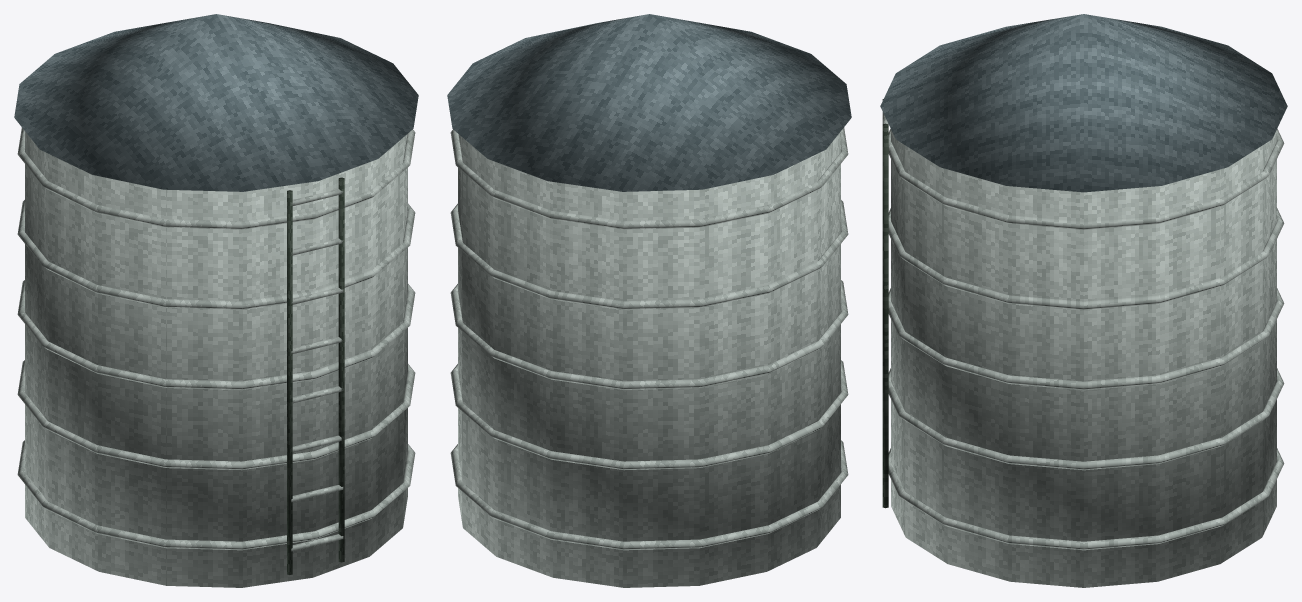
The model's file is grain_bin.glb.
The picture shows the model from 3 angles, left to right: view 1: azimuth 30°, elevation 25°; view 2: azimuth 150°, elevation 25°; view 3: azimuth 270°, elevation 25°; orthographic projection.
Visible parts, largest first — view 1: parcel_grain_bin metal, parcel_grain_bin roof, parcel_grain_bin dark; view 2: parcel_grain_bin metal, parcel_grain_bin roof; view 3: parcel_grain_bin metal, parcel_grain_bin roof, parcel_grain_bin dark.
Boxes of the visible parts, x1,y1,x2,y2 form: parcel_grain_bin metal: [17, 127, 415, 587]; parcel_grain_bin roof: [14, 14, 418, 191]; parcel_grain_bin dark: [287, 177, 344, 574]; parcel_grain_bin metal: [450, 127, 848, 587]; parcel_grain_bin roof: [447, 14, 851, 191]; parcel_grain_bin metal: [882, 112, 1284, 587]; parcel_grain_bin roof: [880, 14, 1287, 192]; parcel_grain_bin dark: [882, 99, 888, 508].
Size of what is drawn, in the model's own units: 3 by 4 by 3.
Materials: 3 (3 with a texture image).
